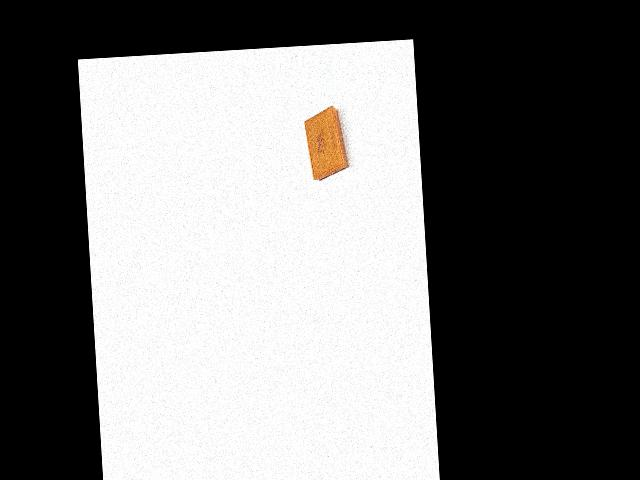chocolate: (301, 105, 356, 183)
